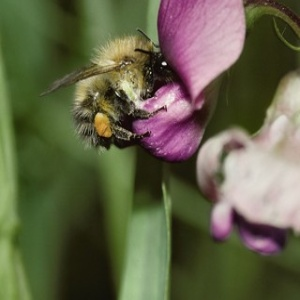bee: (39, 31, 172, 156)
